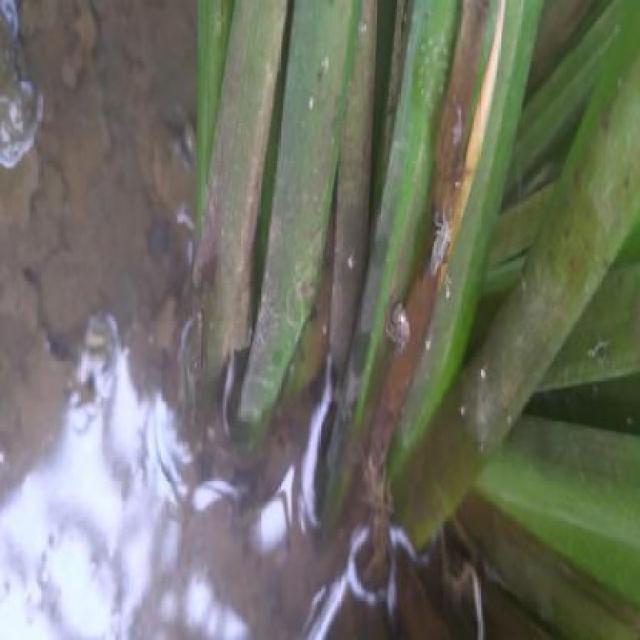wereng pada daun padi: (372, 279, 423, 371), (421, 192, 456, 286)
